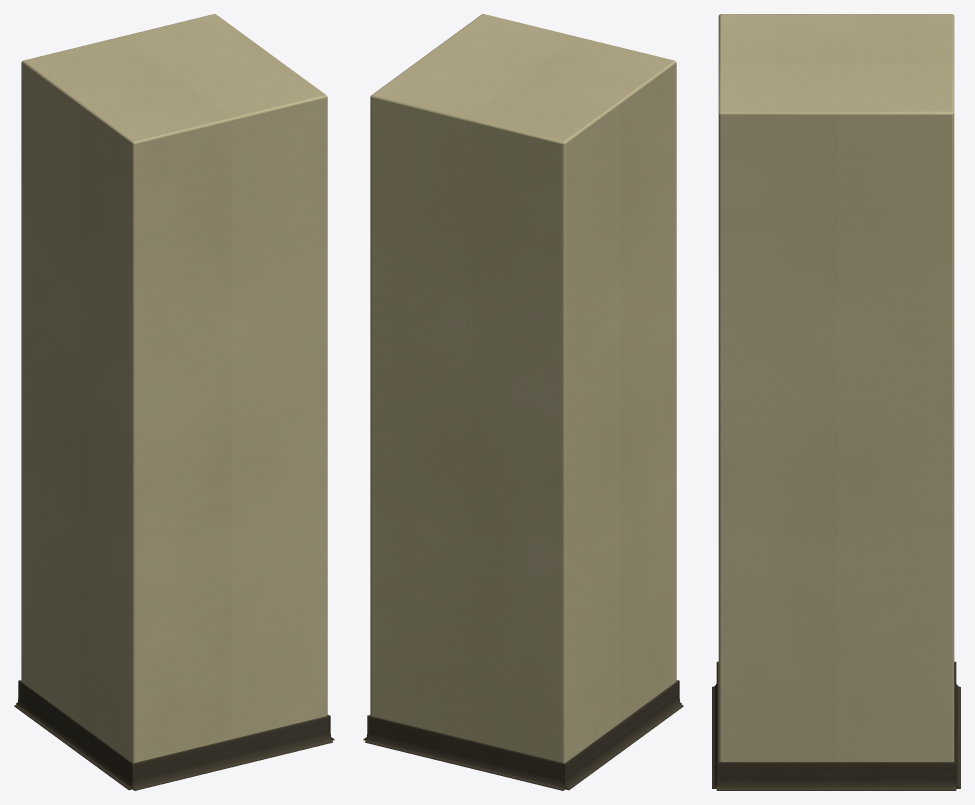
Rendered from column_086.gltf.
3 renders of one model, left to right at view 1: azimuth 30°, elevation 25°; view 2: azimuth 150°, elevation 25°; view 3: azimuth 270°, elevation 25°, orthographic. The views are drawn at different scales.
Visible parts, largest first — view 1: column_086; view 2: column_086; view 3: column_086.
Part boxes in pixels (x1,y1,x2,y2): column_086: (14,14,334,790); column_086: (363,14,683,790); column_086: (712,14,960,790).
Bounding box in the file's own units: 0.908 × 2.72 × 0.908.
Materials: 2 (2 with a texture image).
